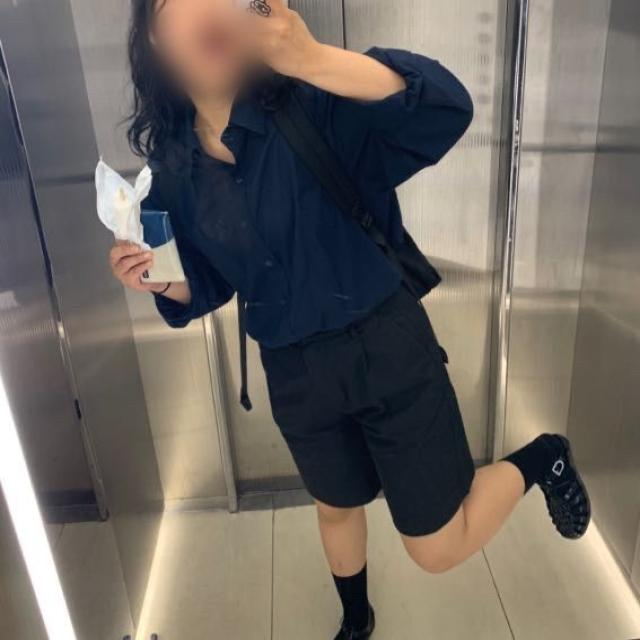shirt: (138, 48, 472, 348)
shortpants: (256, 294, 475, 532)
